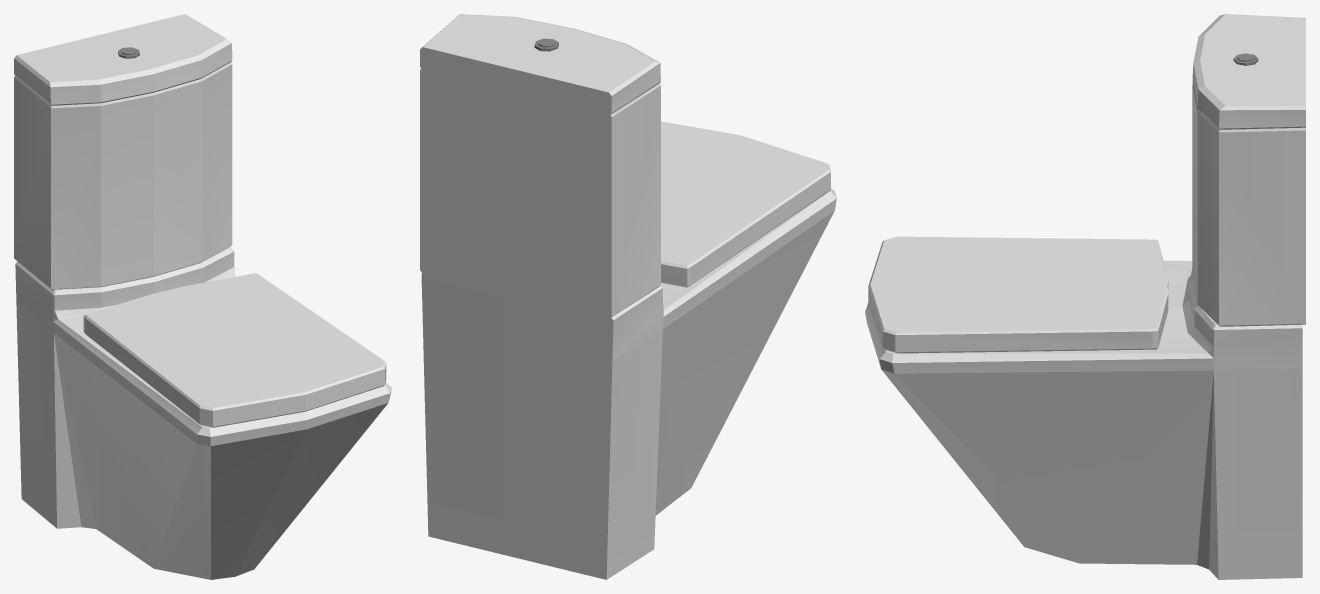
File: toilet_free_model.glb
The picture shows the model from 3 angles, left to right: view 1: azimuth 30°, elevation 25°; view 2: azimuth 150°, elevation 25°; view 3: azimuth 270°, elevation 25°; orthographic projection. The views are drawn at different scales.
Visible parts, largest first — view 1: Toilet; view 2: Toilet; view 3: Toilet.
Part boxes in pixels (bbox=[...]): Toilet: bbox=[14, 14, 391, 579]; Toilet: bbox=[420, 14, 836, 579]; Toilet: bbox=[865, 14, 1305, 579].
Bounding box in the file's own units: 0.2521 × 0.5542 × 0.4626.
Materials: 1 (1 with a texture image).
